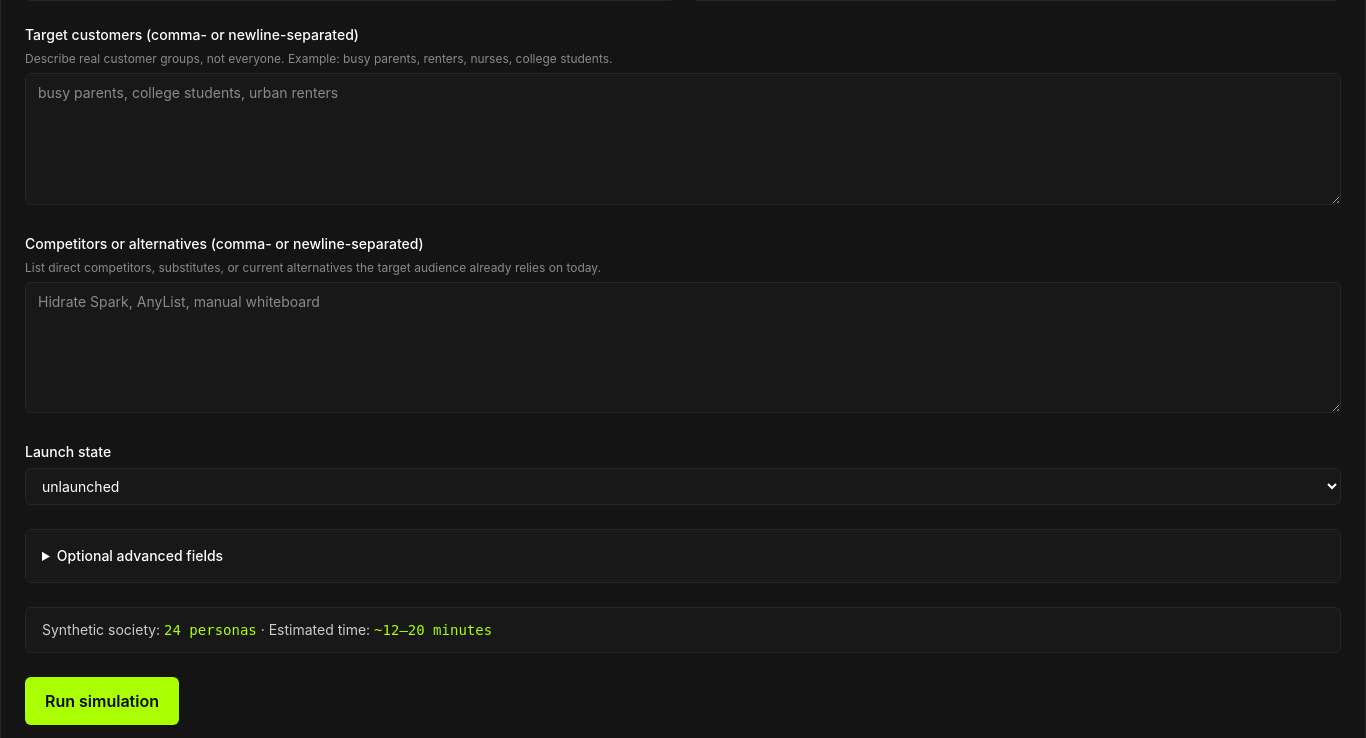
Phase 10B — UI › 2. required fields validate
(page scrolled)
Click the button with test id "brief-submit" at (102, 701), box [25,677,179,725]
(page scrolled)
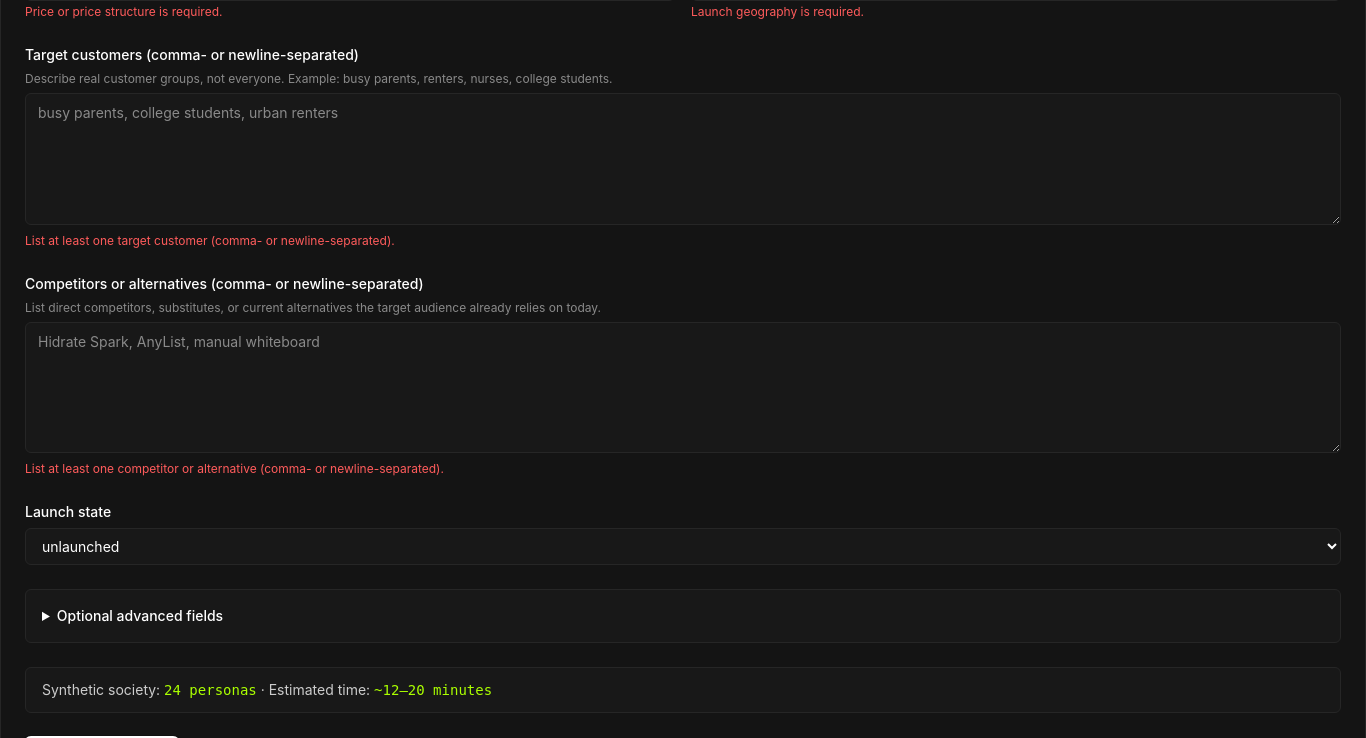
Expected: the text "Price or price structure is required." is shown, [25,4,222,19]
